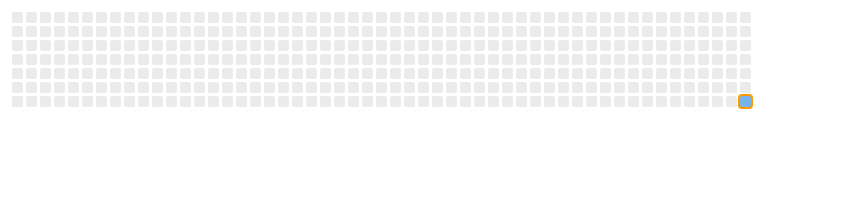
Test: tooltip_shows_grades_and_topics_on_focus
The width and height of the screenshot is (867, 210).
Focus the button named "24 Oct 2026: 5 questions" at (746, 102), box [740, 96, 751, 107]
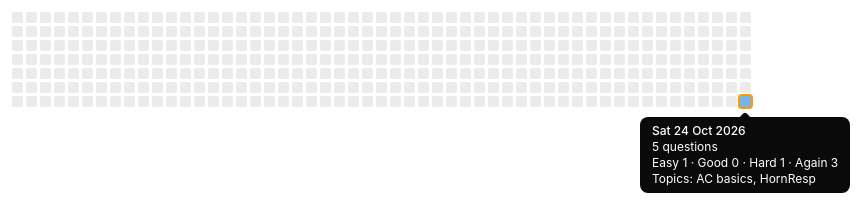
expect the text "Easy 1 · Good 0 · Hard 1 · Again 3" is shown: met, box [652, 155, 838, 171]
expect the text "Topics: AC basics, HornResp" is shown: met, box [652, 171, 838, 187]
